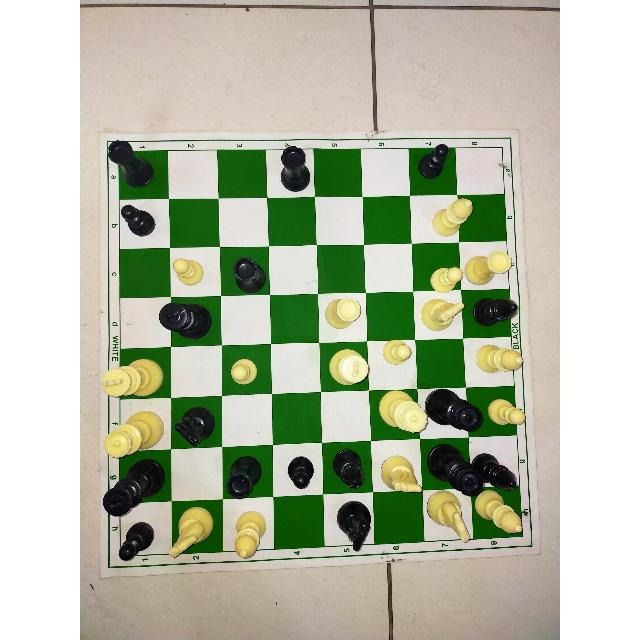black-bishop: (476, 449, 520, 495), (470, 290, 521, 329), (332, 447, 370, 491)
black-king: (101, 453, 168, 520), (159, 298, 212, 340)
black-knight: (334, 498, 376, 553), (175, 406, 219, 448)
black-pawn: (116, 518, 158, 564), (118, 199, 158, 239), (415, 143, 455, 181), (283, 455, 318, 491)
black-queen: (424, 440, 480, 495), (427, 385, 485, 434)
black-rook: (104, 138, 159, 189), (225, 452, 264, 500), (279, 144, 316, 194), (230, 256, 268, 293)
white-bishop: (473, 488, 528, 540), (429, 193, 478, 239), (230, 507, 270, 563), (474, 342, 526, 377)
white-king: (101, 353, 167, 403), (327, 346, 372, 389)
white-knight: (424, 490, 475, 548), (166, 502, 216, 559), (379, 450, 423, 495), (419, 295, 465, 333)
white-pawn: (483, 394, 529, 429), (171, 256, 210, 288), (225, 356, 263, 387), (427, 262, 463, 294), (380, 335, 413, 368)
white-queen: (102, 410, 165, 460), (376, 388, 431, 433)
white-rook: (463, 249, 514, 289), (321, 294, 365, 334)
